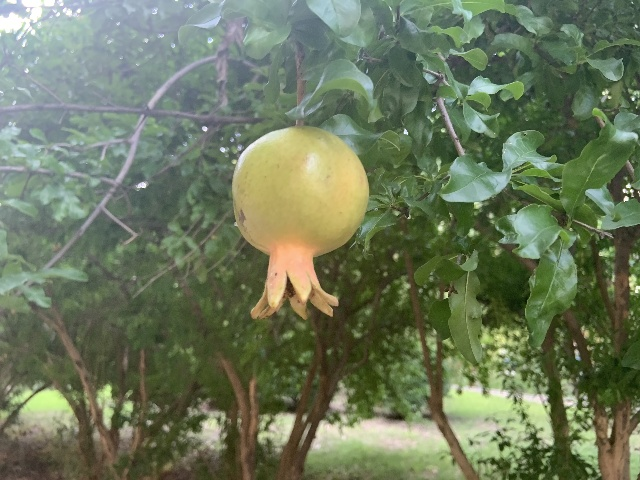mid-growth: (230, 125, 370, 321)
